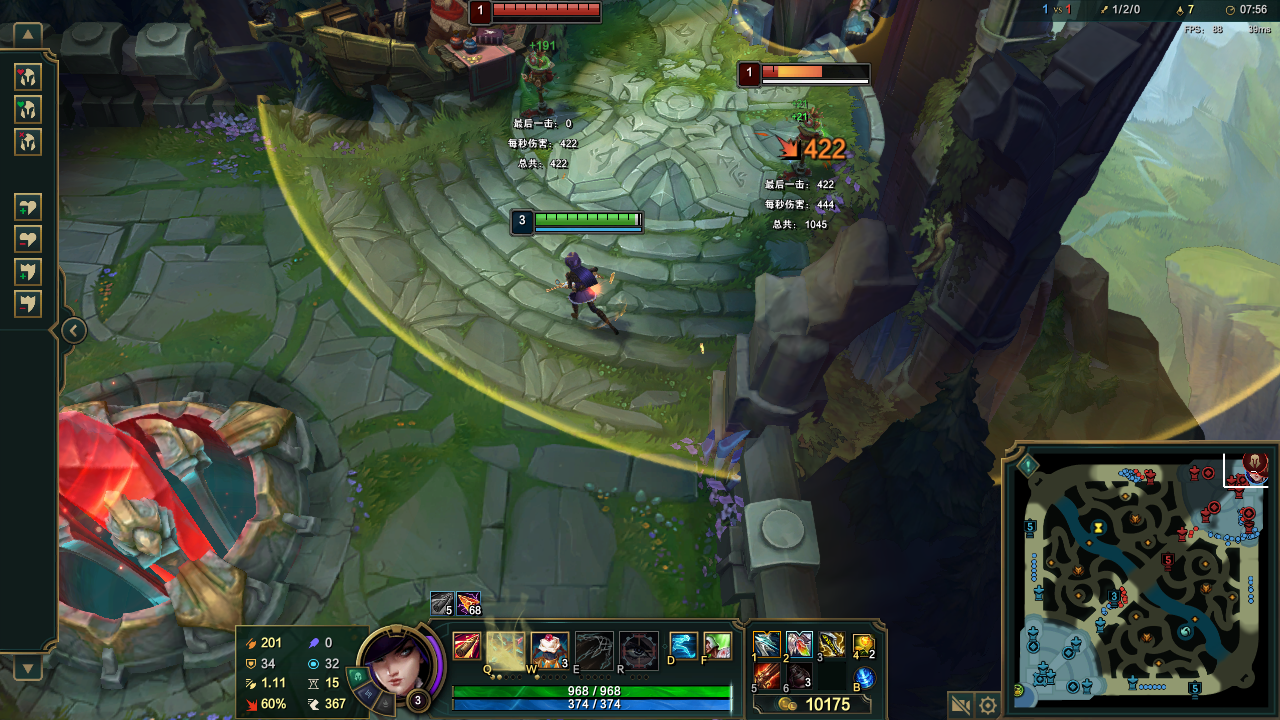DFYX: (762, 65, 873, 78), (489, 2, 600, 15)
